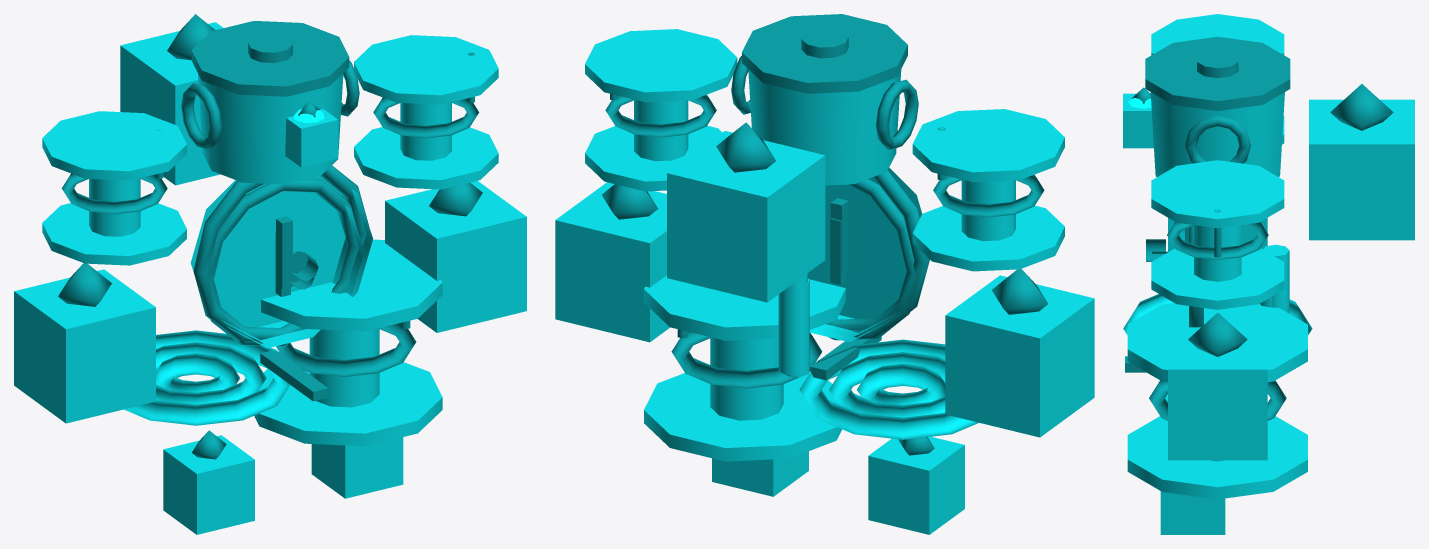
File: golem_035.glb
3 views of the same model, side by side, from view 1: azimuth 30°, elevation 25°; view 2: azimuth 150°, elevation 25°; view 3: azimuth 270°, elevation 25° (orthographic). The views are drawn at different scales.
Parts seen in each view (by area): view 1: Body, Detail; view 2: Body, Detail; view 3: Body, Detail.
Boxes of the visible parts, x1,y1,x2,y2 form: Body: (14, 22, 526, 534); Detail: (58, 14, 482, 459); Body: (555, 29, 1094, 534); Detail: (602, 14, 1048, 455); Body: (1123, 14, 1414, 534); Detail: (1125, 36, 1393, 420).
Size of the model in its own units: 1.43 by 1.32 by 0.8149.
